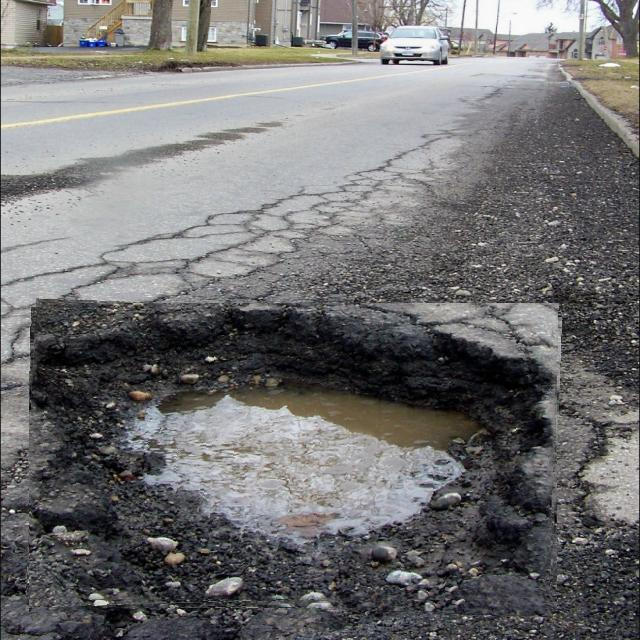Pothole: (29, 303, 559, 612)
